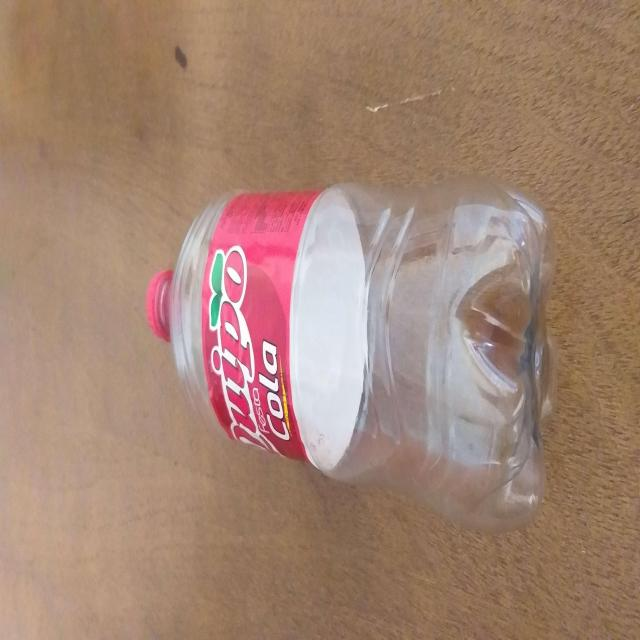bottle-plastic: (144, 180, 552, 531)
